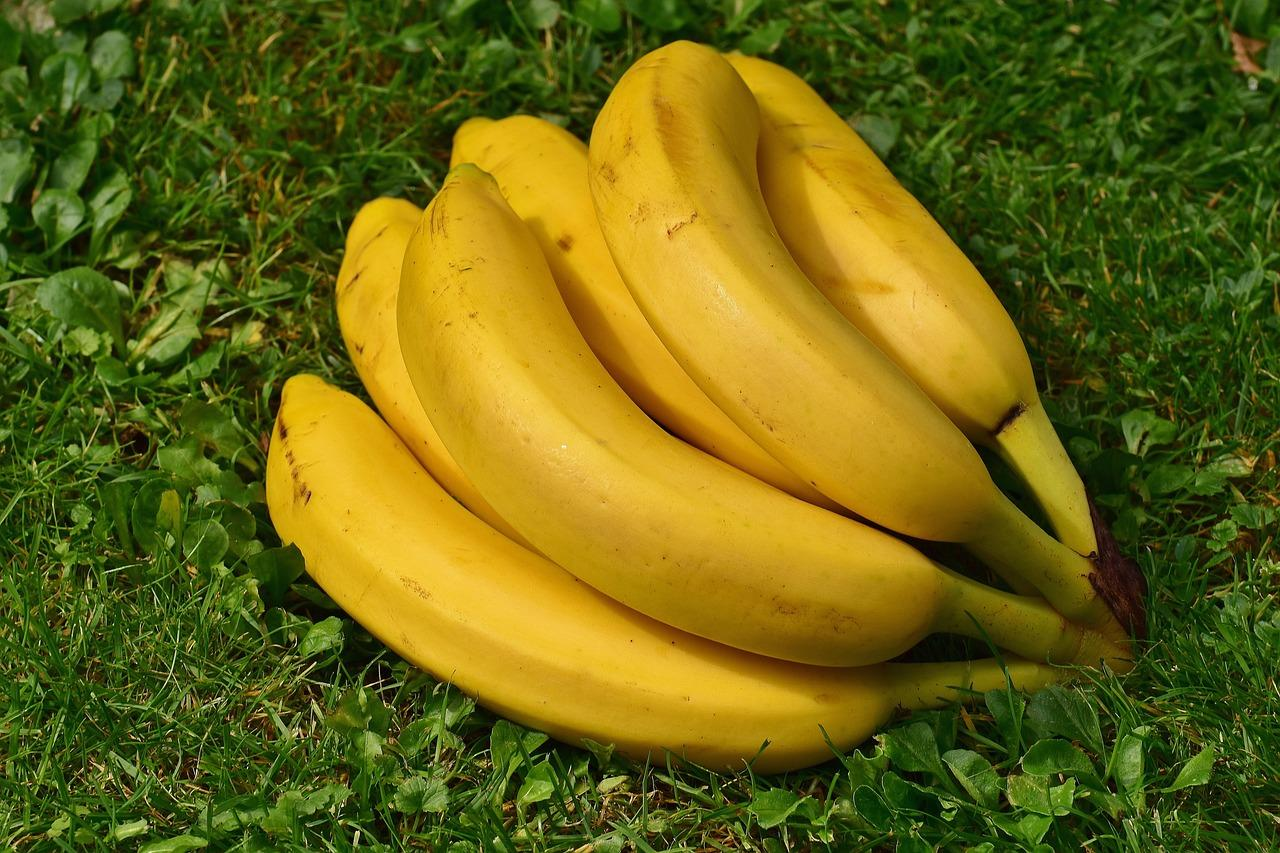banana: (197, 22, 1200, 793)
